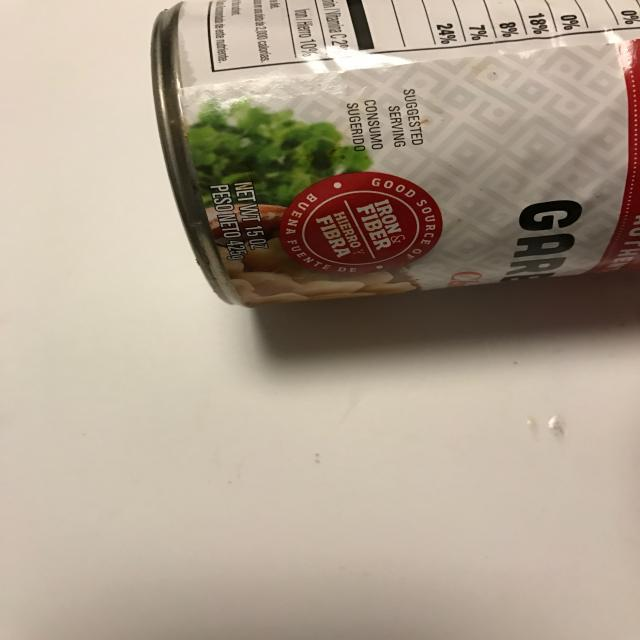metal: (150, 0, 640, 309)
